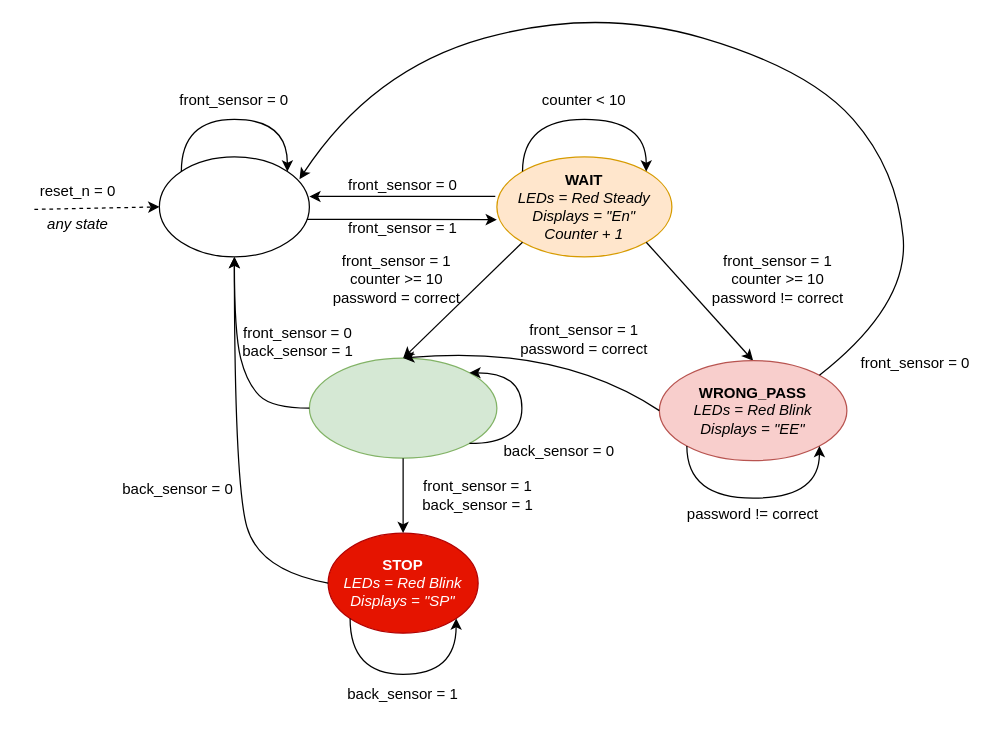
The diagram is 993 pixels wide and 734 high, and some of its shapes have lost their labels. The shapes that lost their labels are listed below. From the top down, each one's centre as x and y in pixels, then its label:
point (233, 206): IDLE LEDs = Off Displays = Off Counter = 0
point (402, 407): RIGHT_PASS LEDs = Green Blink Displays = "GO"
